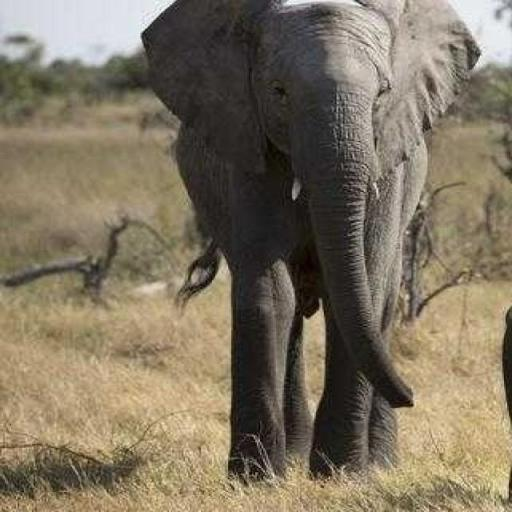Elephant: (139, 0, 482, 488)
